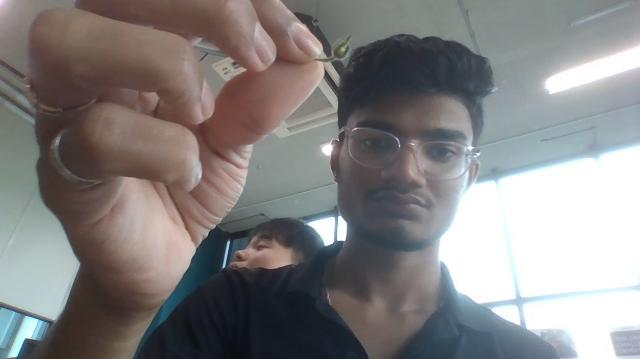Fruit Bud: (332, 35, 352, 59)
